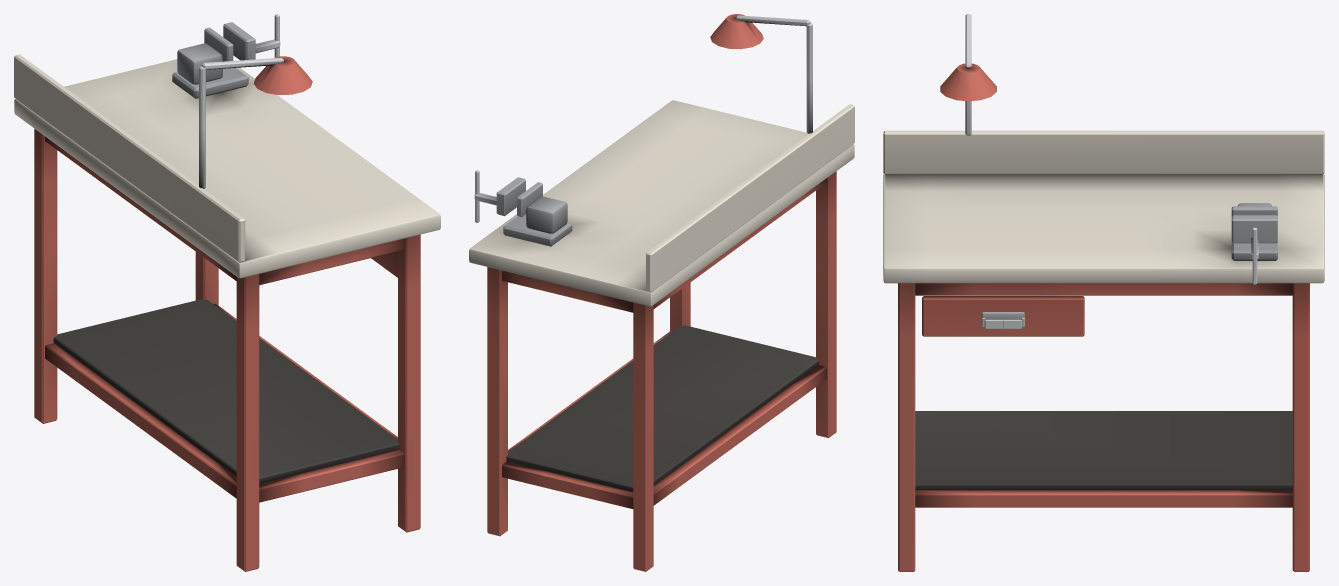
Rendered from nd_workbench.glb.
The picture shows the model from 3 angles, left to right: view 1: azimuth 30°, elevation 25°; view 2: azimuth 150°, elevation 25°; view 3: azimuth 270°, elevation 25°; orthographic projection. The views are drawn at different scales.
Parts seen in each view (by area): view 1: PART; view 2: PART; view 3: PART.
Boxes of the visible parts, bbox=[...] form: PART: bbox=[14, 14, 440, 571]; PART: bbox=[469, 14, 854, 571]; PART: bbox=[883, 14, 1324, 571].
Bounding box in the file's own units: 0.671 × 1.35 × 1.14.
